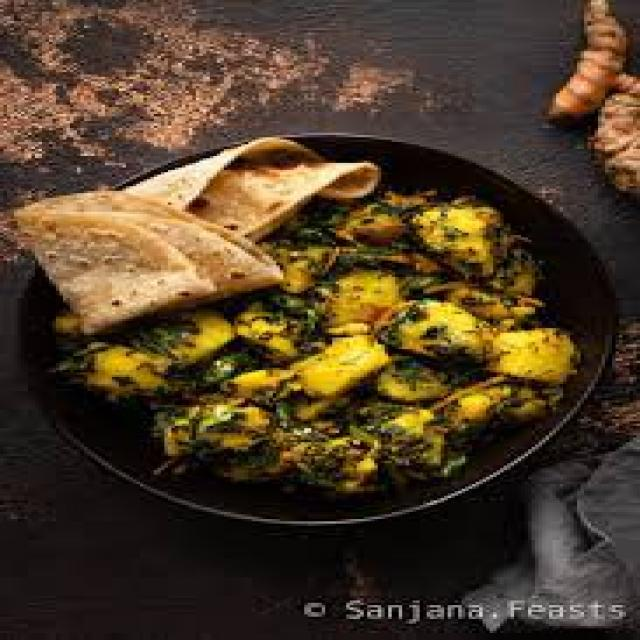Aloo Methi: (104, 197, 577, 490)
